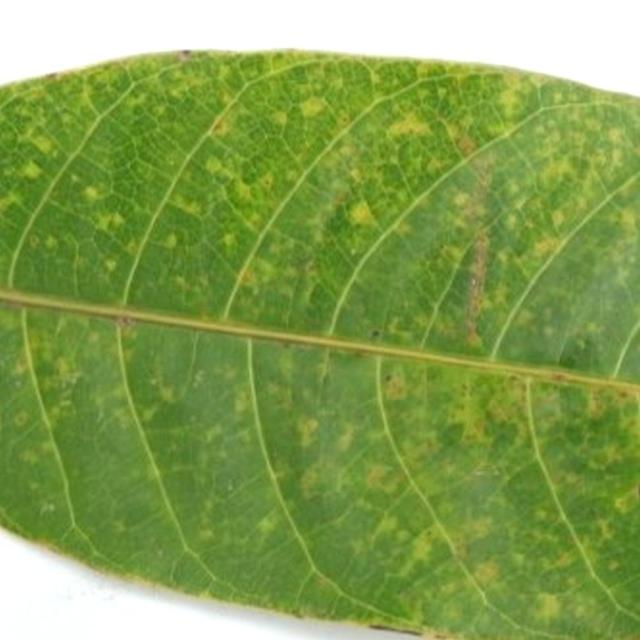Mango: (0, 52, 639, 639)
Powdery_Mildew: (10, 319, 93, 409), (536, 151, 584, 190), (446, 396, 488, 438), (145, 363, 184, 407), (345, 199, 386, 230), (388, 111, 434, 138), (365, 462, 405, 493), (405, 532, 435, 563), (171, 191, 205, 218), (532, 591, 561, 620), (382, 369, 409, 400), (372, 513, 402, 540), (532, 234, 564, 259), (615, 485, 640, 515), (94, 209, 122, 234), (295, 415, 320, 443), (474, 558, 502, 583), (317, 347, 334, 388), (298, 96, 328, 118), (584, 388, 601, 418), (1, 295, 31, 312), (232, 179, 254, 202), (455, 134, 478, 156), (31, 134, 55, 155), (617, 208, 638, 231), (463, 328, 484, 351), (19, 159, 42, 179), (204, 156, 226, 176), (256, 515, 278, 535), (233, 394, 252, 415), (204, 425, 224, 444), (452, 191, 471, 209), (13, 411, 30, 428), (220, 232, 236, 250), (83, 185, 100, 201), (551, 209, 565, 228), (551, 371, 570, 384), (272, 111, 288, 126), (43, 235, 59, 250), (212, 118, 227, 134), (164, 233, 178, 249), (103, 258, 117, 272), (40, 501, 55, 514), (119, 315, 134, 327), (353, 346, 367, 358), (177, 50, 191, 61), (508, 374, 520, 385), (45, 71, 59, 80), (620, 389, 632, 399), (370, 329, 380, 339), (283, 339, 293, 349), (470, 278, 477, 287), (227, 483, 234, 492)
